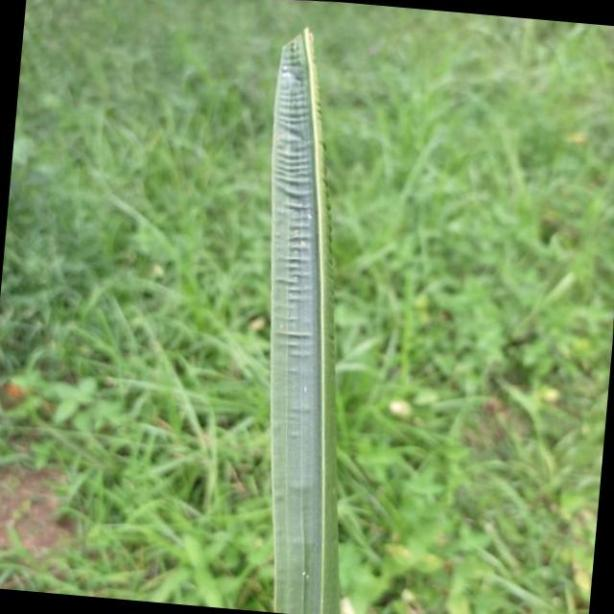Boron: (260, 25, 340, 614)
